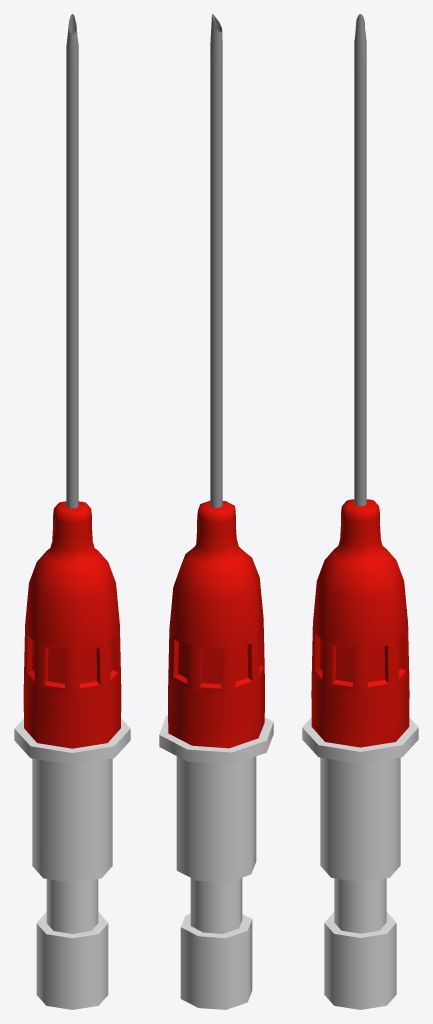
Rendered from SM_Abbocath del 18.fbx.
The picture shows the model from 3 angles, left to right: view 1: azimuth 90°, elevation 25°; view 2: azimuth 150°, elevation 25°; view 3: azimuth 270°, elevation 25°; orthographic projection.
Parts seen in each view (by area): view 1: Cube.002, Cube.001, NurbsPath.001; view 2: Cube.002, Cube.001, NurbsPath.001; view 3: Cube.002, Cube.001, NurbsPath.001.
Part boxes in pixels (x1=…): Cube.002: x1=14, y1=718, x2=130, y2=1009; Cube.001: x1=23, y1=501, x2=121, y2=748; NurbsPath.001: x1=66, y1=14, x2=78, y2=508; Cube.002: x1=159, y1=715, x2=273, y2=1009; Cube.001: x1=168, y1=501, x2=264, y2=748; NurbsPath.001: x1=210, y1=14, x2=222, y2=507; Cube.002: x1=302, y1=717, x2=418, y2=1009; Cube.001: x1=311, y1=499, x2=409, y2=747; NurbsPath.001: x1=354, y1=14, x2=366, y2=506.
Size of the model in its own units: 1.7 by 15.81 by 1.7.
